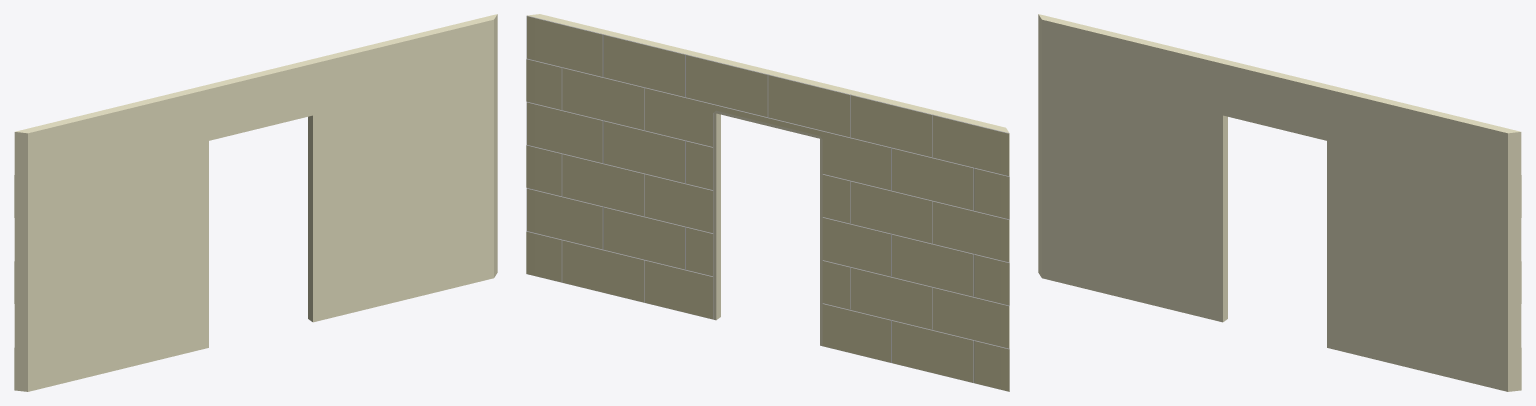
File: ExteriorWall_45Door_ExportPrep.gltf
3 views of the same model, side by side, from view 1: azimuth 30°, elevation 25°; view 2: azimuth 150°, elevation 25°; view 3: azimuth 330°, elevation 25° (orthographic).
Parts seen in each view (by area): view 1: ExteriorWall_45Door; view 2: ExteriorWall_45Door; view 3: ExteriorWall_45Door.
Part boxes in pixels (x1=…): ExteriorWall_45Door: x1=14, y1=14, x2=497, y2=391; ExteriorWall_45Door: x1=526, y1=14, x2=1009, y2=391; ExteriorWall_45Door: x1=1038, y1=14, x2=1521, y2=391.
Size of the model in its own units: 5.87 by 3 by 0.1075.
